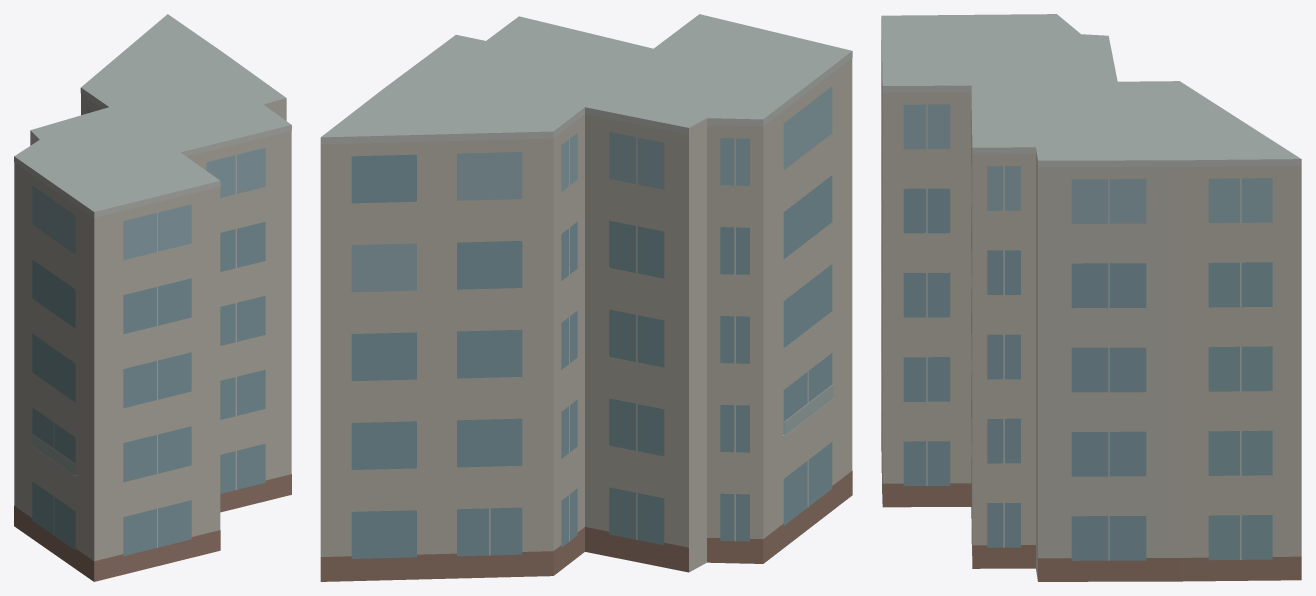
File: survey-upis-33024899.glb
The picture shows the model from 3 angles, left to right: view 1: azimuth 30°, elevation 25°; view 2: azimuth 150°, elevation 25°; view 3: azimuth 270°, elevation 25°; orthographic projection. The views are drawn at different scales.
Parts seen in each view (by area): view 1: survey-upis-33024899.tmp; view 2: survey-upis-33024899.tmp; view 3: survey-upis-33024899.tmp.
Part boxes in pixels (x1=…): survey-upis-33024899.tmp: x1=14, y1=14, x2=291, y2=581; survey-upis-33024899.tmp: x1=320, y1=14, x2=852, y2=581; survey-upis-33024899.tmp: x1=881, y1=14, x2=1301, y2=581.
Bounding box in the file's own units: 11.52 × 15.4 × 13.93.
